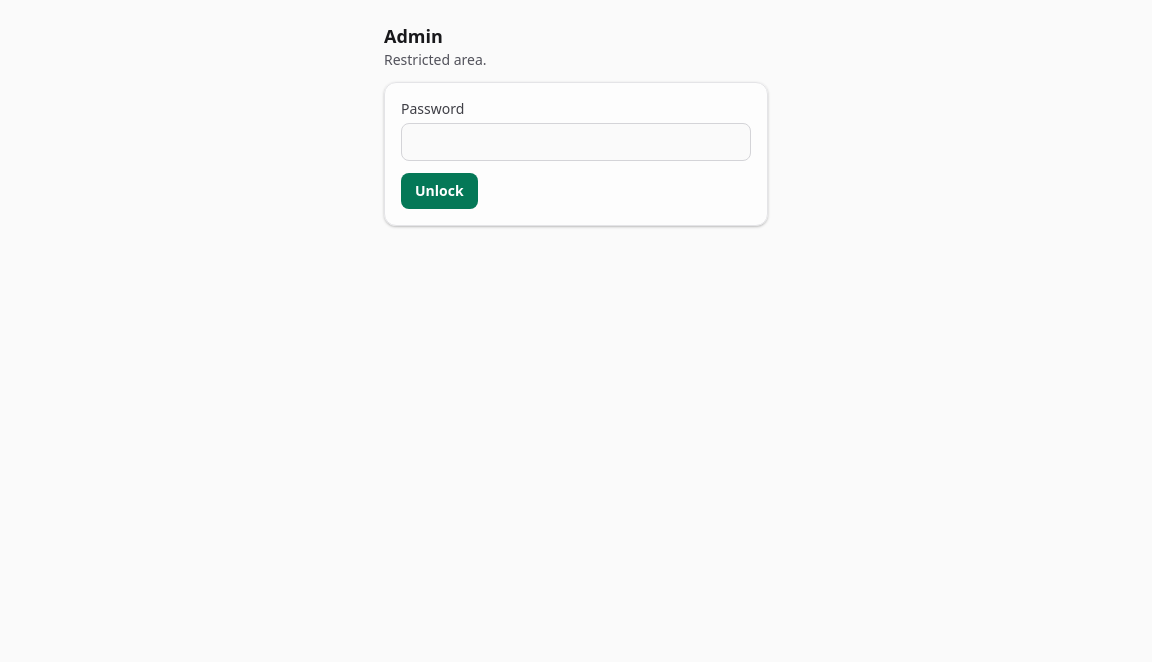
Test: <Admin /> › explains an RLS refusal instead of echoing the policy error
This screenshot has width=1152, height=662.
Type "ilikepie" into the password field labelled "Password".
click(576, 142); type("ilikepie")  # box [401,123,751,161]
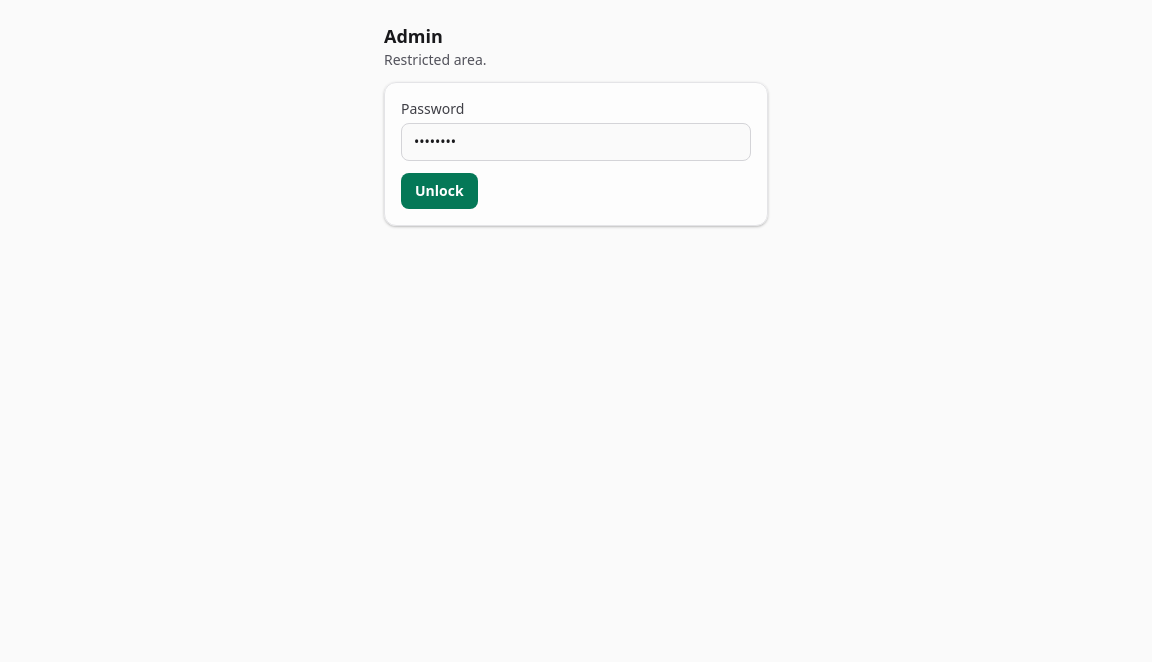
Click the button "Unlock".
click(439, 191)  # box [401,173,478,209]
(page scrolled)
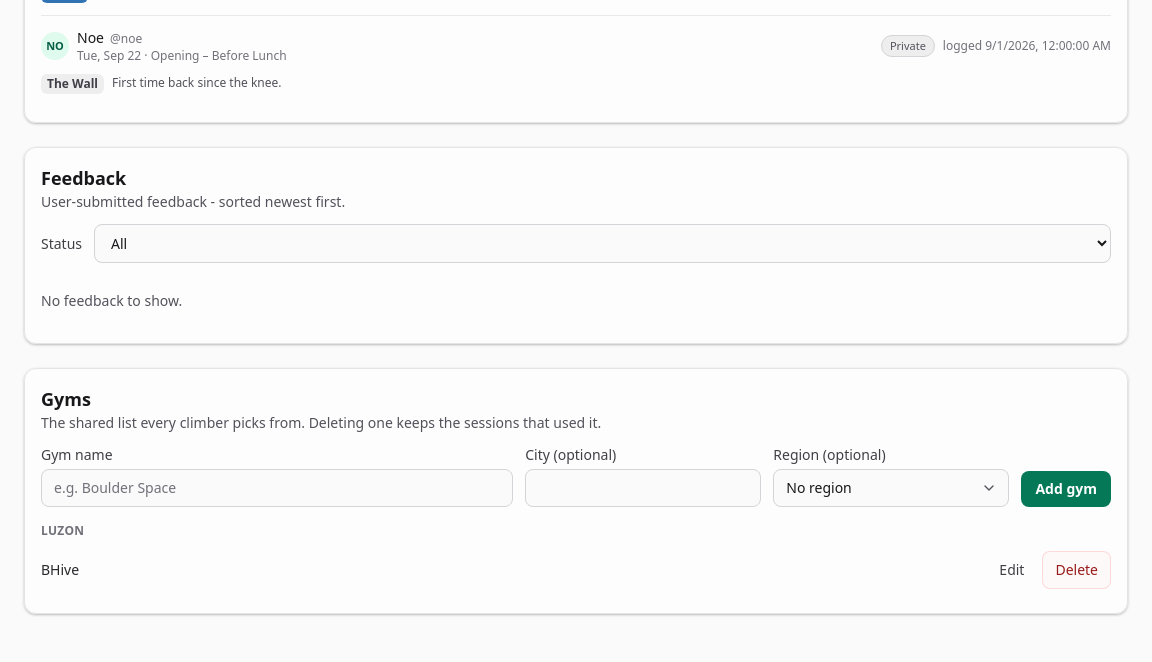
Type "Climb Shack" into the field labelled "Gym name".
click(277, 488); type("Climb Shack")  # box [41,469,513,507]
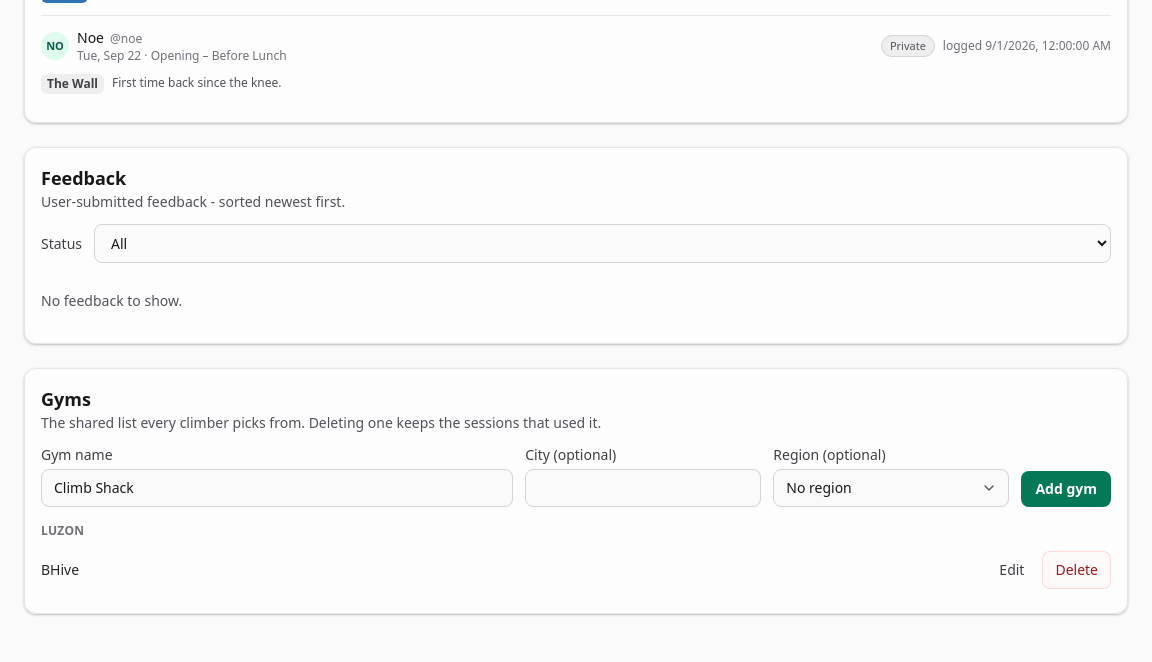
Click the button "Add gym".
click(1066, 489)  # box [1021,471,1111,507]
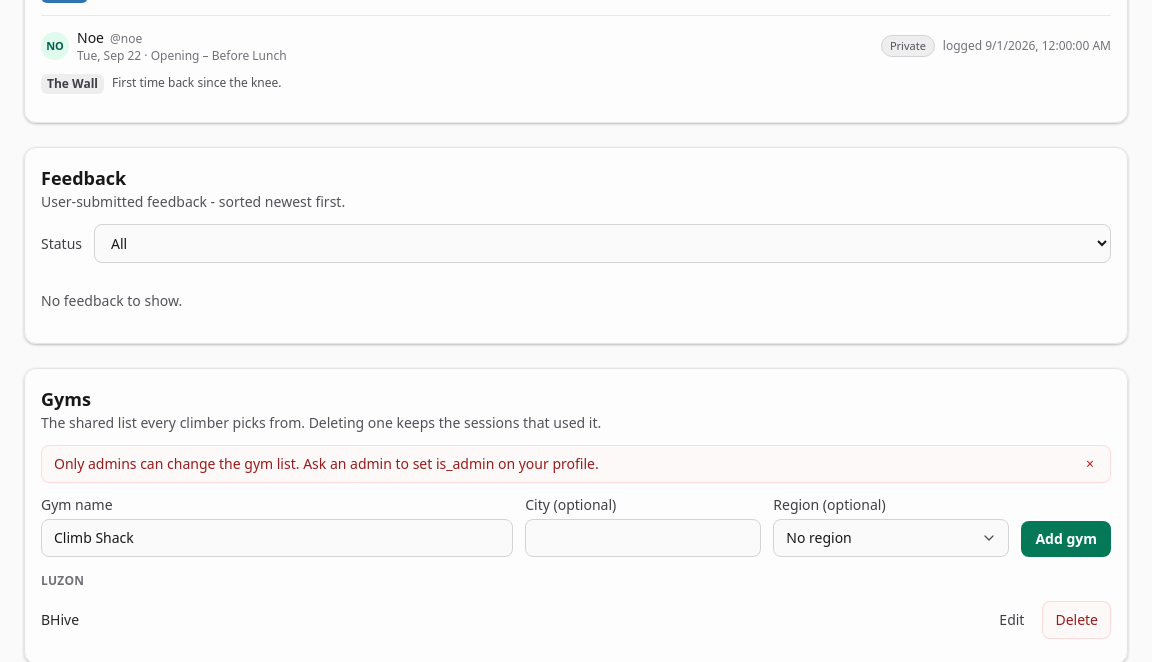
Expected: the text "Only admins can change the gym list" is shown, [54,454,599,473]
